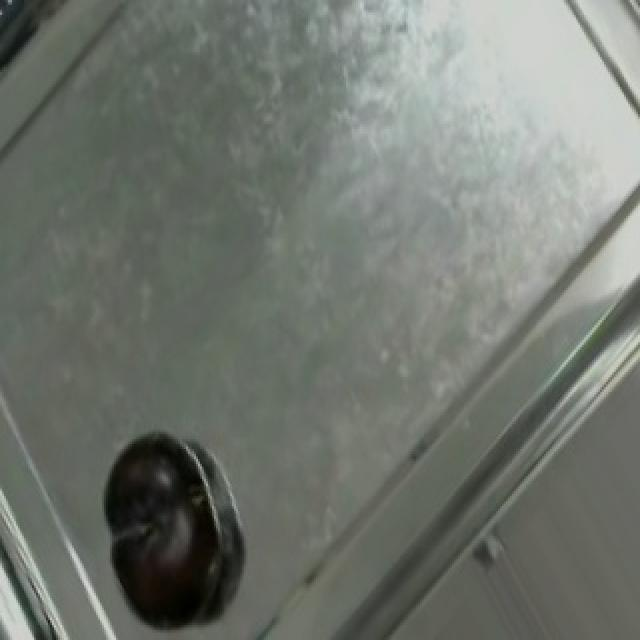Fruit: (94, 446, 240, 640)
